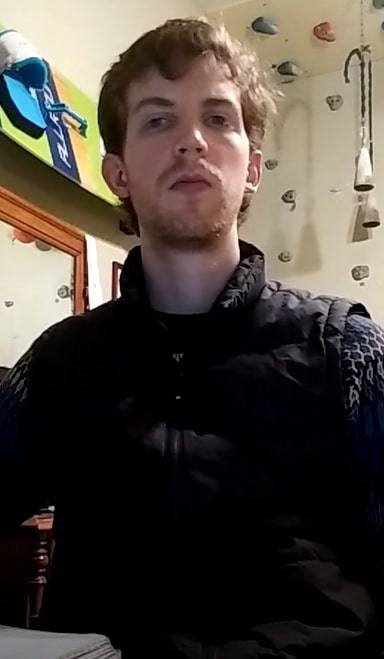Not Sleeping: (130, 97, 241, 145)
